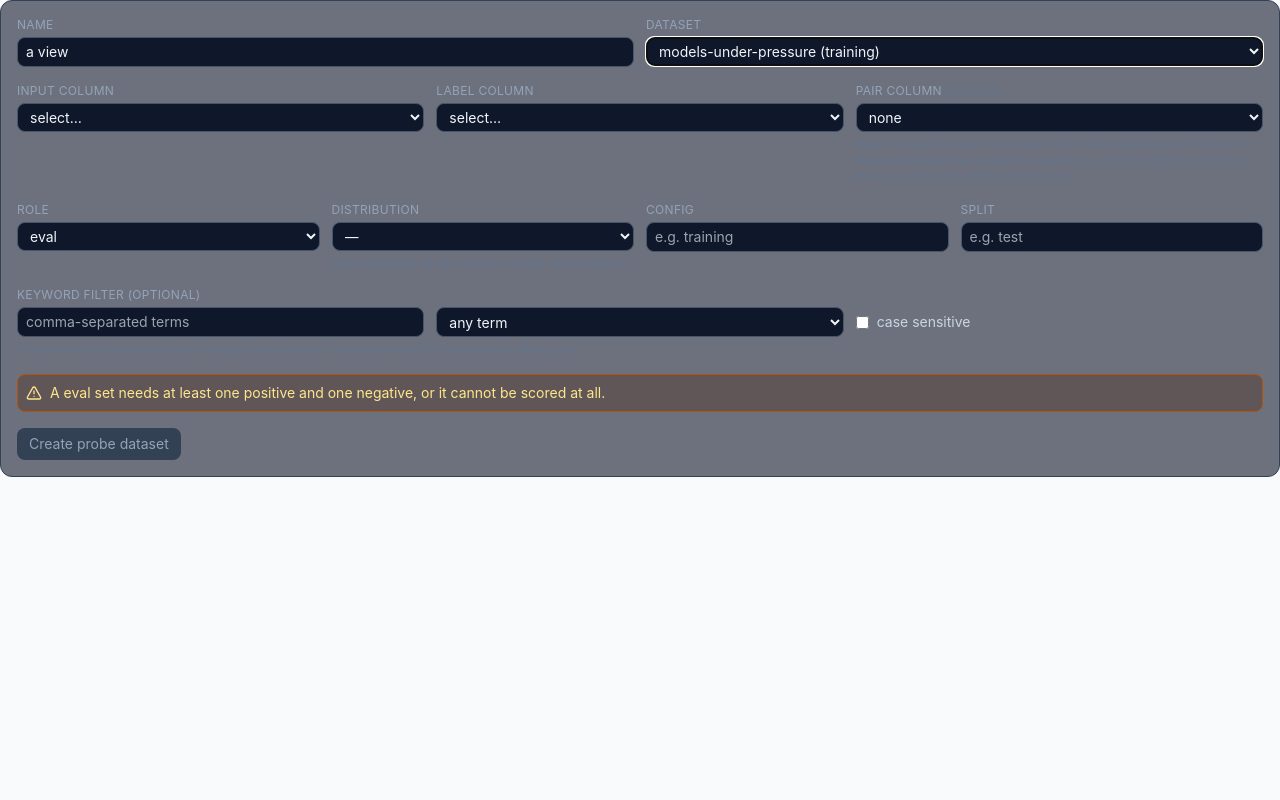
ProbeDatasetForm reads its choices from the data › the helper leaves the form submittable once the mapping is valid
The image size is (1280, 800).
Earlier steps of the test are not shown.
Expected: the dropdown labelled "Label column" is shown, [436,103,844,132]
Select "inputs" in the dropdown labelled "Input column" at (221, 118), box [17,103,424,132]
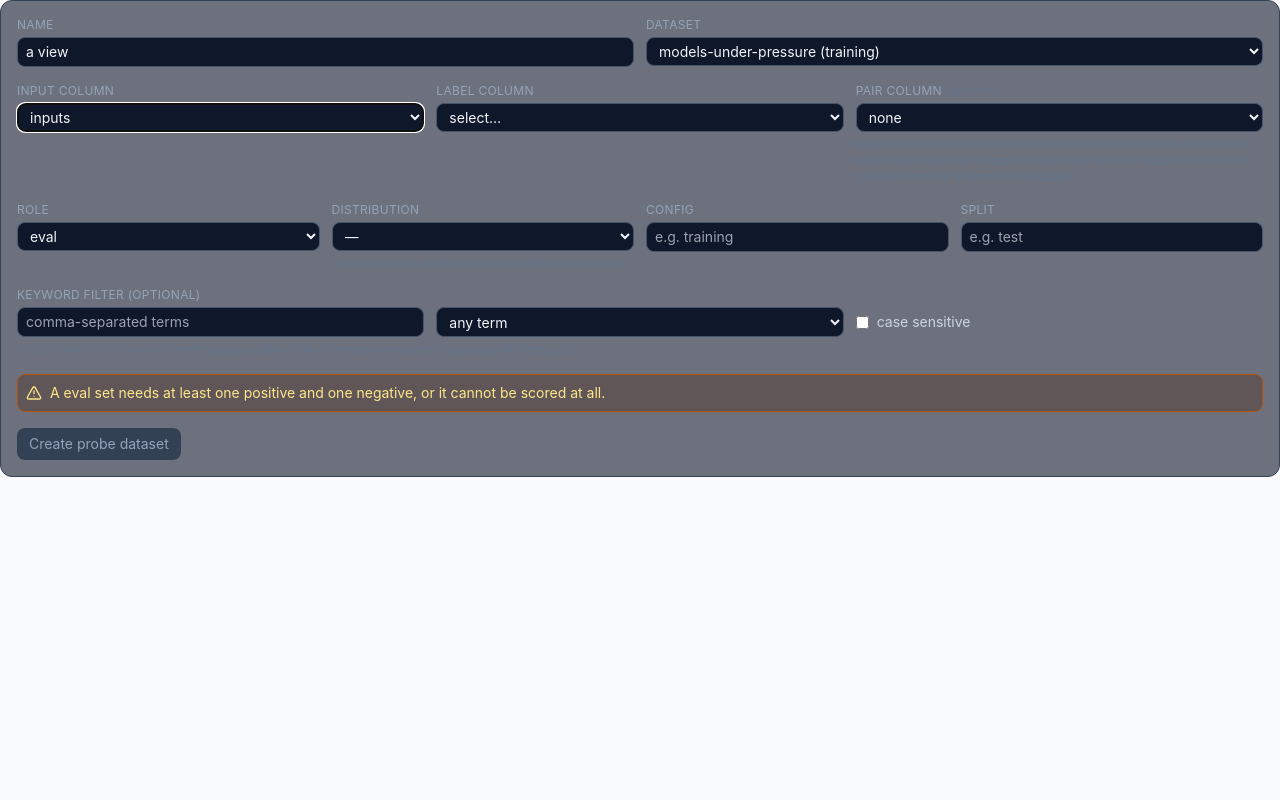
Select "stakes" in the dropdown labelled "Label column" at (640, 118), box [436,103,844,132]
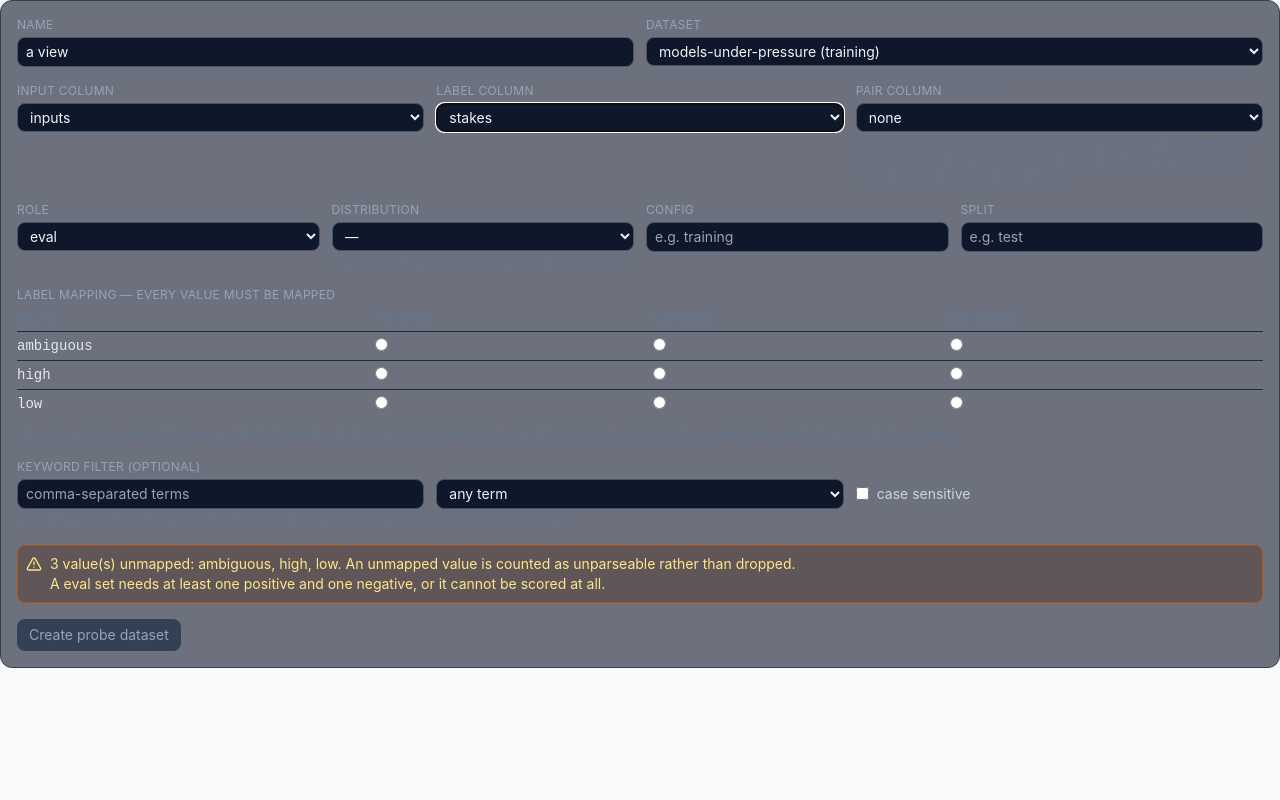
Select "train" in the dropdown labelled "Role" at (168, 236), box [17,222,320,250]
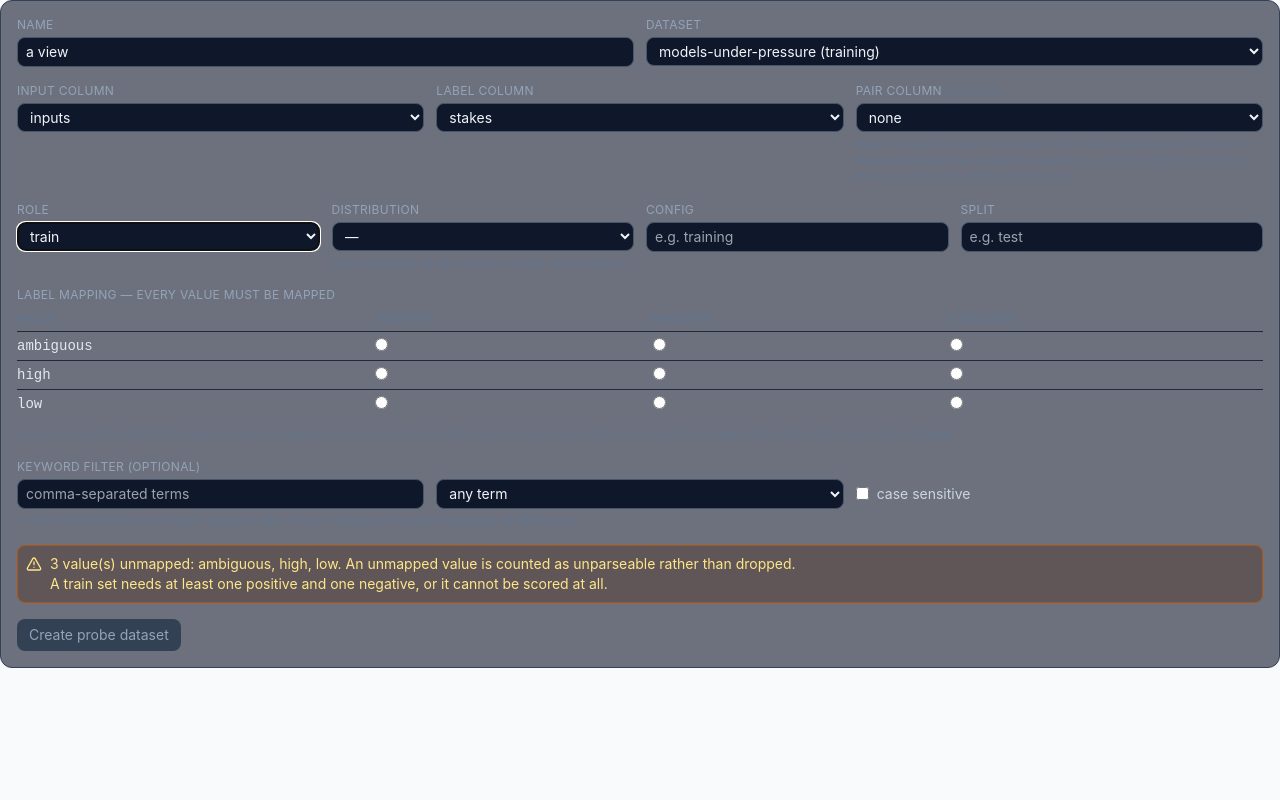
Click the radio button named "high → positive" at (382, 374), box [375,367,388,380]
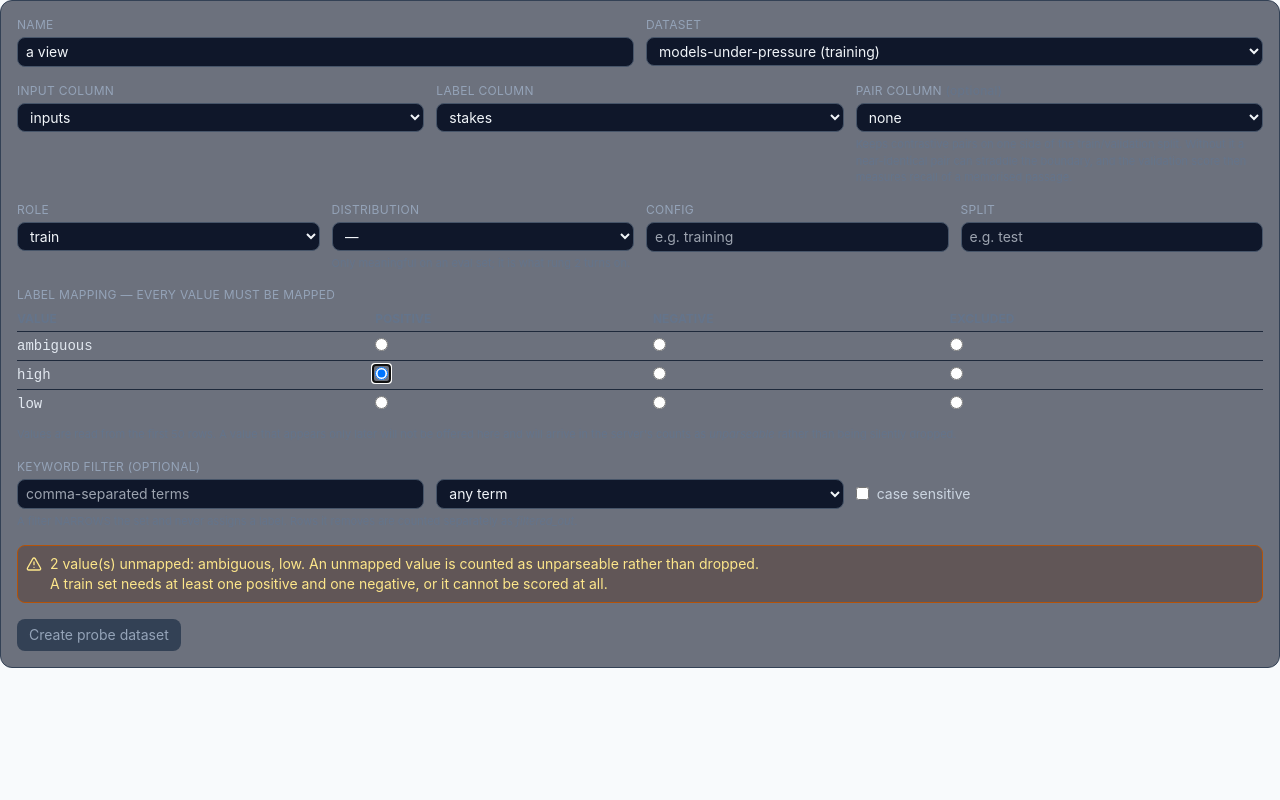
Click the radio button named "low → negative" at (659, 402), box [653,396,666,409]
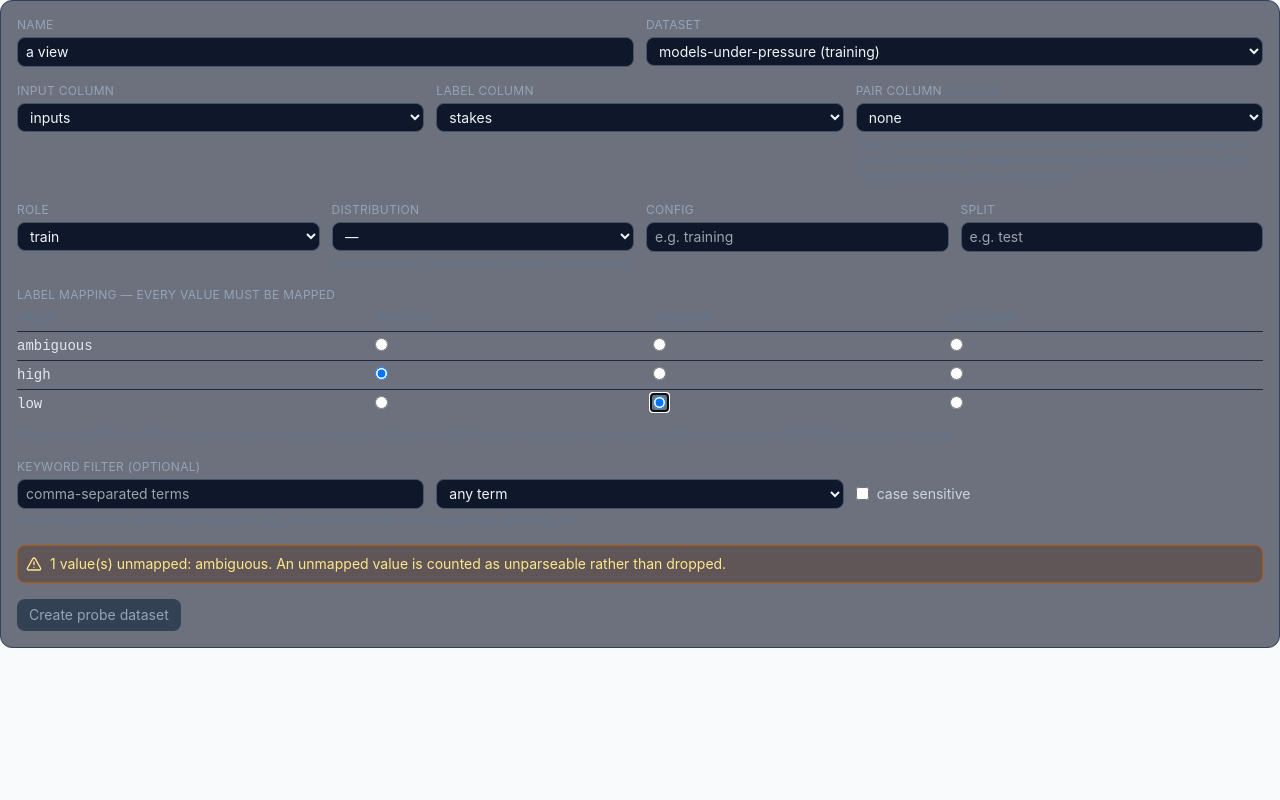
Click the radio button named "ambiguous → excluded" at (956, 344), box [950,338,963,351]
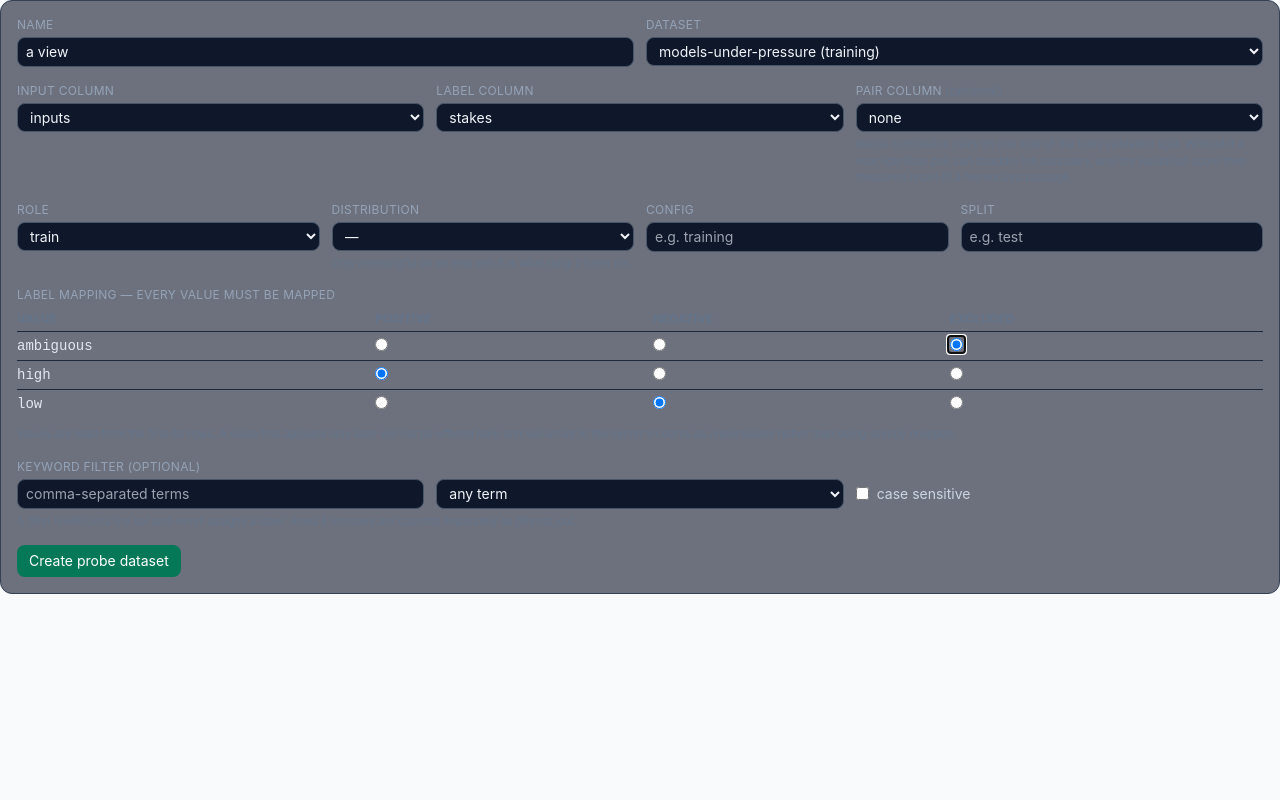
Result: the button "Create probe dataset" is enabled at [17,545,181,577]
